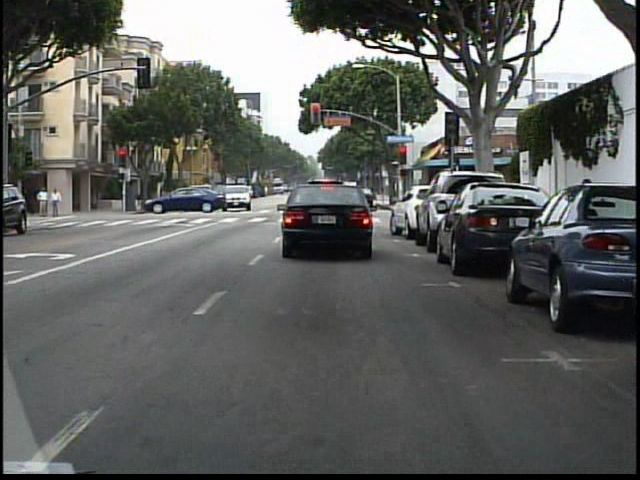person: (36, 185, 52, 219), (51, 187, 66, 219)
